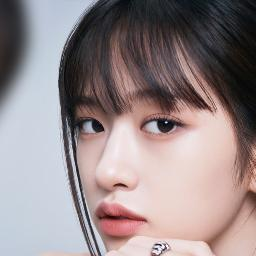face: (81, 96, 225, 236)
